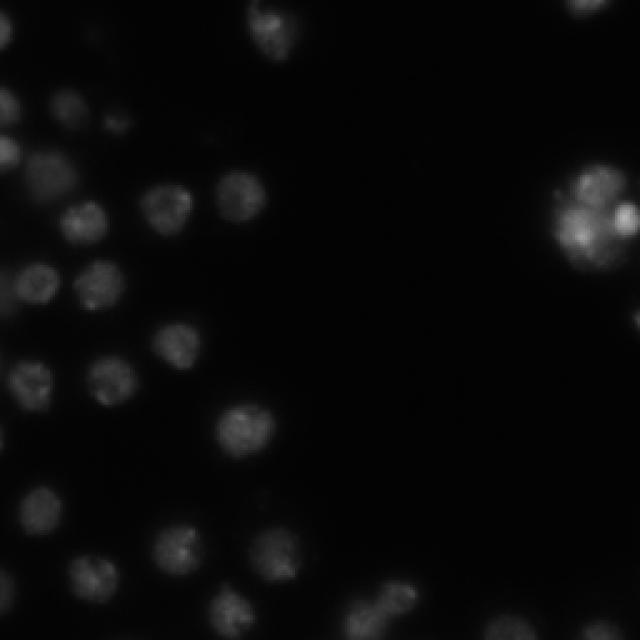cell: (554, 164, 640, 271), (341, 580, 420, 640), (212, 401, 279, 459), (0, 261, 59, 318), (246, 0, 299, 62), (248, 526, 302, 586), (214, 169, 269, 224), (25, 150, 79, 206), (140, 182, 194, 238), (206, 582, 258, 640), (85, 354, 140, 408), (71, 260, 128, 312), (151, 522, 201, 578), (216, 170, 268, 223), (66, 554, 119, 606), (6, 360, 55, 413), (151, 320, 200, 371), (18, 485, 64, 538), (59, 200, 109, 248), (481, 612, 540, 640), (51, 89, 90, 131), (574, 619, 626, 639), (101, 106, 131, 138), (1, 568, 19, 617), (566, 0, 610, 19), (1, 135, 21, 172), (0, 88, 20, 124)
